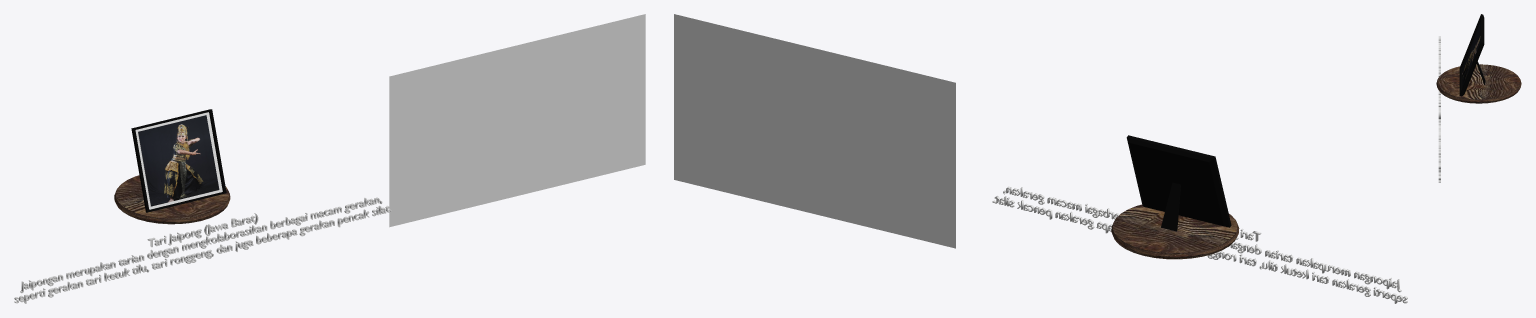
The model's file is 14. Tari jaipong (Jawa Barat).fbx.
3 views of the same model, side by side, from view 1: azimuth 30°, elevation 25°; view 2: azimuth 150°, elevation 25°; view 3: azimuth 270°, elevation 25° (orthographic). The views are drawn at different scales.
Parts seen in each view (by area): view 1: Plane, Cube.017, Text; view 2: Plane, Cube.017, Text; view 3: Cube.017, Text.
Boxes of the visible parts, x1=… form: Plane: x1=389, y1=14, x2=645, y2=227; Cube.017: x1=114, y1=109, x2=230, y2=224; Text: x1=14, y1=197, x2=391, y2=303; Plane: x1=674, y1=14, x2=955, y2=248; Cube.017: x1=1111, y1=135, x2=1239, y2=259; Text: x1=992, y1=186, x2=1407, y2=303; Cube.017: x1=1436, y1=14, x2=1521, y2=103; Text: x1=1438, y1=36, x2=1440, y2=182.
Bounding box in the file's own units: 8101 × 1806 × 1260.
Materials: 6 (3 with a texture image).
